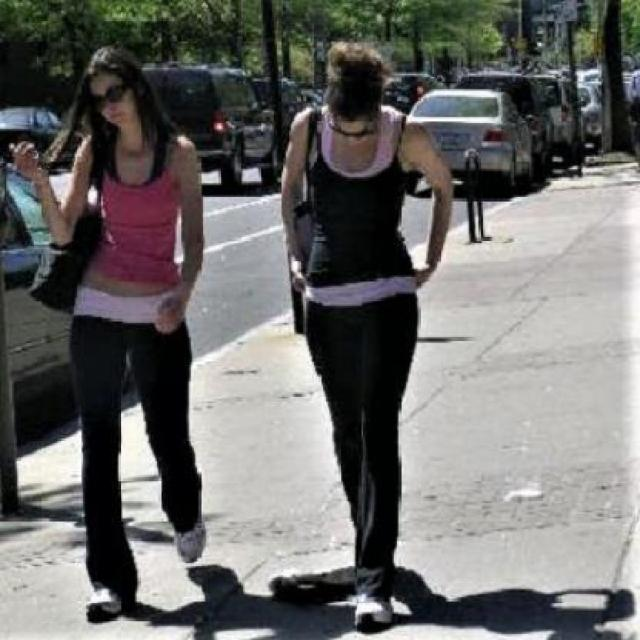Person: (13, 34, 213, 618), (277, 43, 455, 635)
